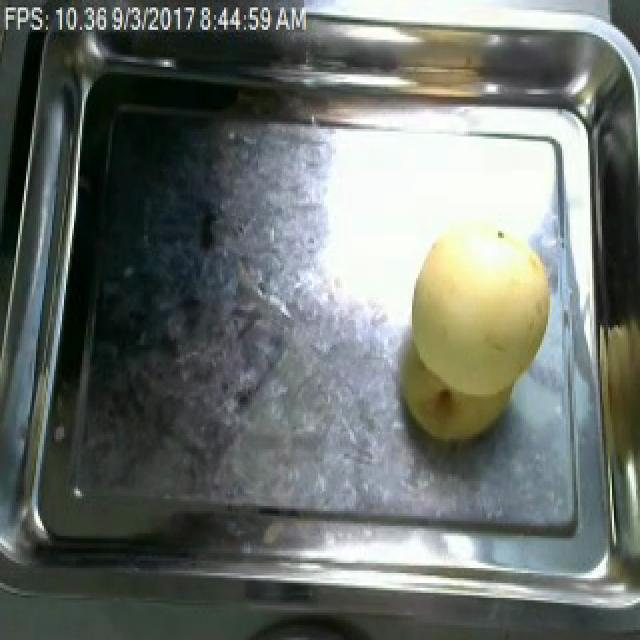Fruit: (402, 211, 560, 417)
